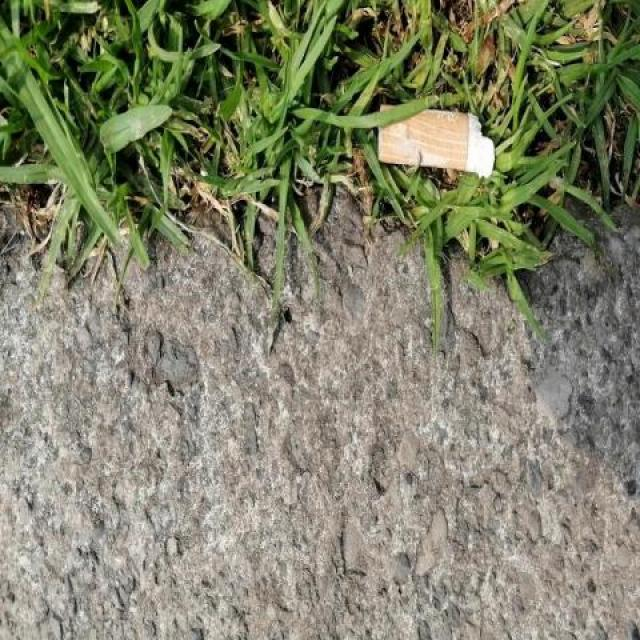non-organic waste: (371, 99, 498, 182)
